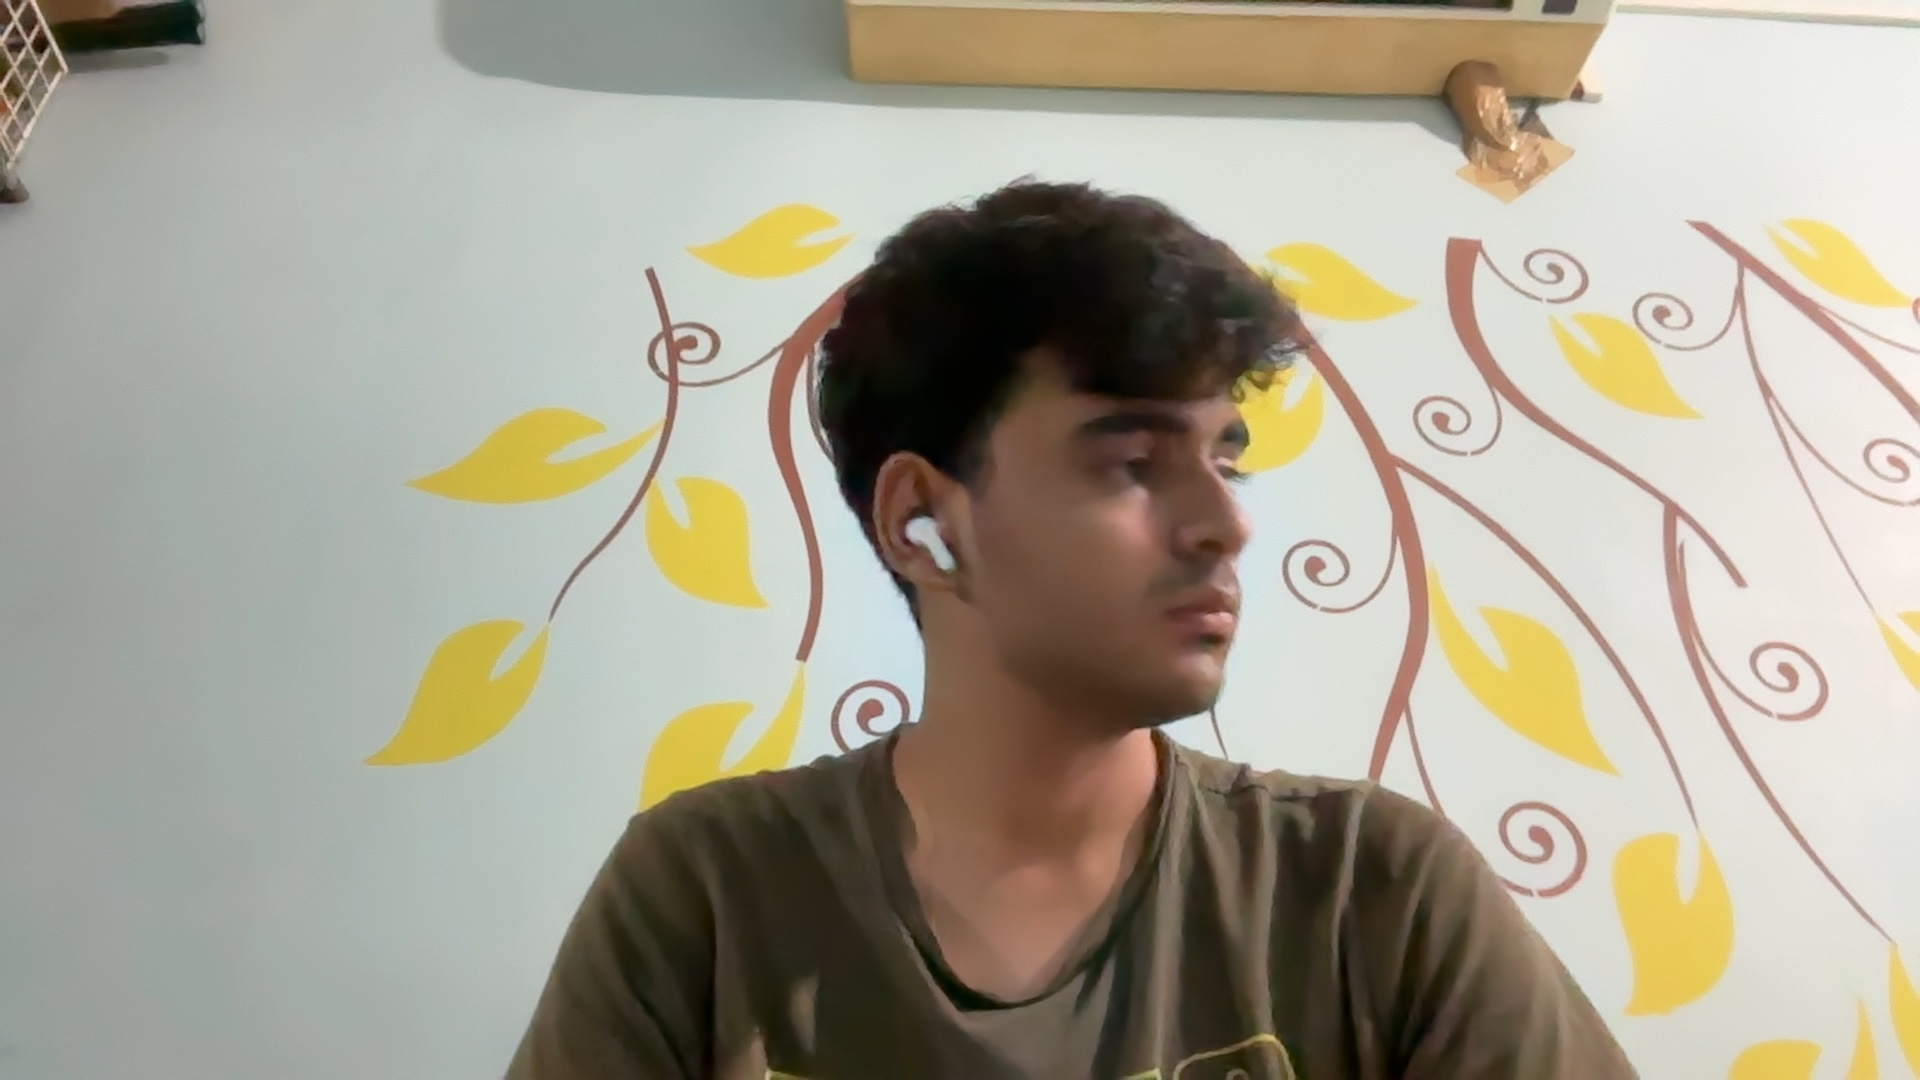No Mask: (967, 497, 1246, 720)
